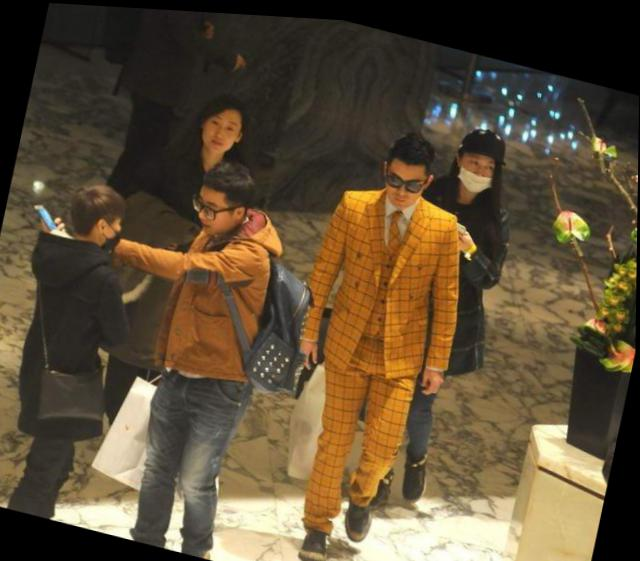NONE: (189, 185, 238, 238), (379, 158, 427, 207), (199, 110, 244, 157)
OK: (86, 210, 128, 254)
WRONG: (454, 143, 500, 191)
